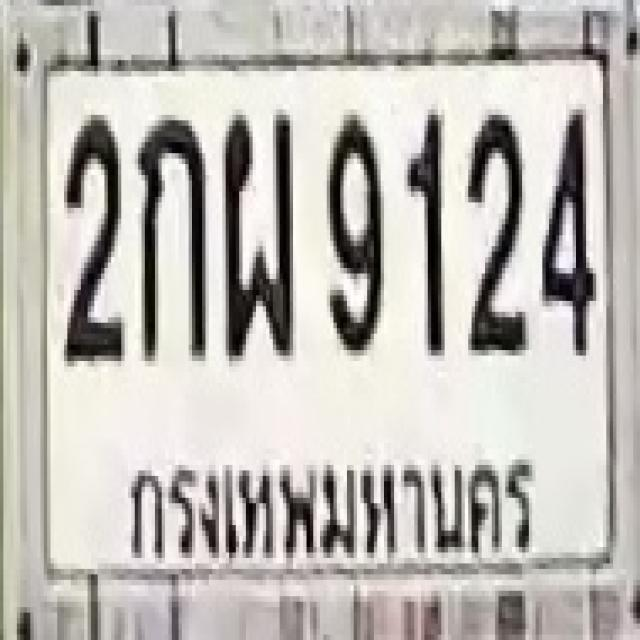1: (404, 110, 445, 356)
2: (62, 112, 123, 364), (465, 112, 525, 353)
4: (539, 104, 596, 355)
9: (322, 112, 382, 353)
A01: (137, 115, 207, 361)
A28: (220, 110, 294, 356)
BKK: (120, 439, 544, 565)
